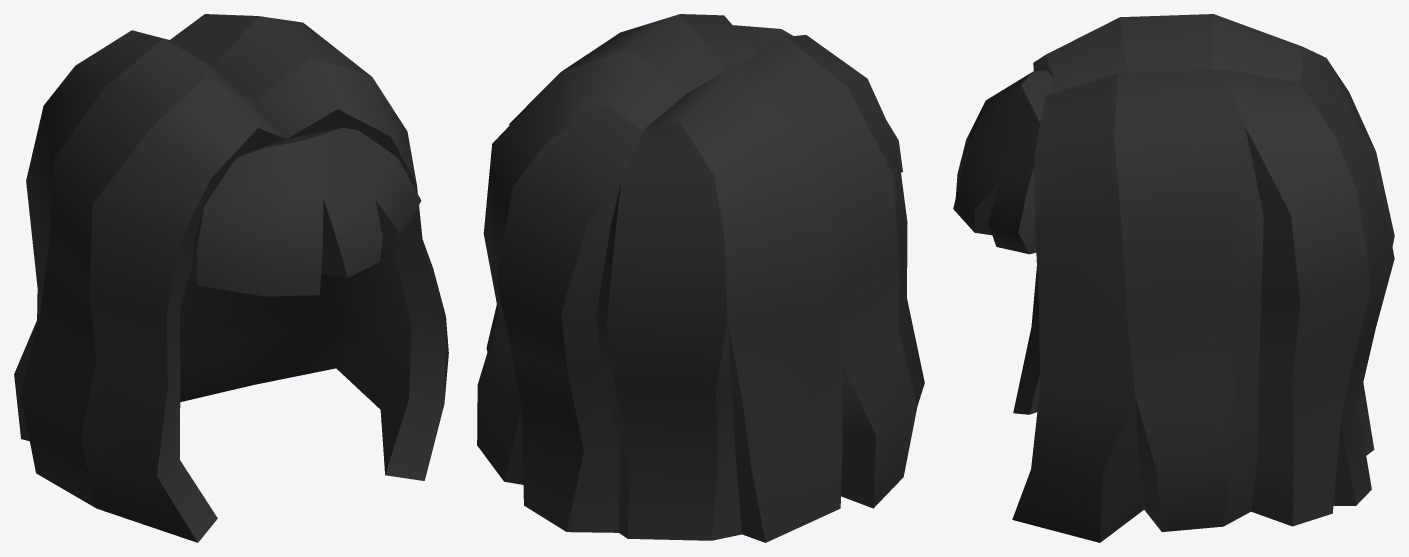
The model's file is Female_Hairs_07.fbx.
3 views of the same model, side by side, from view 1: azimuth 30°, elevation 25°; view 2: azimuth 150°, elevation 25°; view 3: azimuth 270°, elevation 25° (orthographic). The views are drawn at different scales.
Visible parts, largest first — view 1: Female_Hairs_07; view 2: Female_Hairs_07; view 3: Female_Hairs_07.
Part boxes in pixels (left/top/right/bottom): Female_Hairs_07: left=14, top=14, right=448, bottom=542; Female_Hairs_07: left=477, top=14, right=924, bottom=542; Female_Hairs_07: left=953, top=14, right=1394, bottom=542.
Size of the model in its own units: 67.03 by 70.64 by 64.57.
